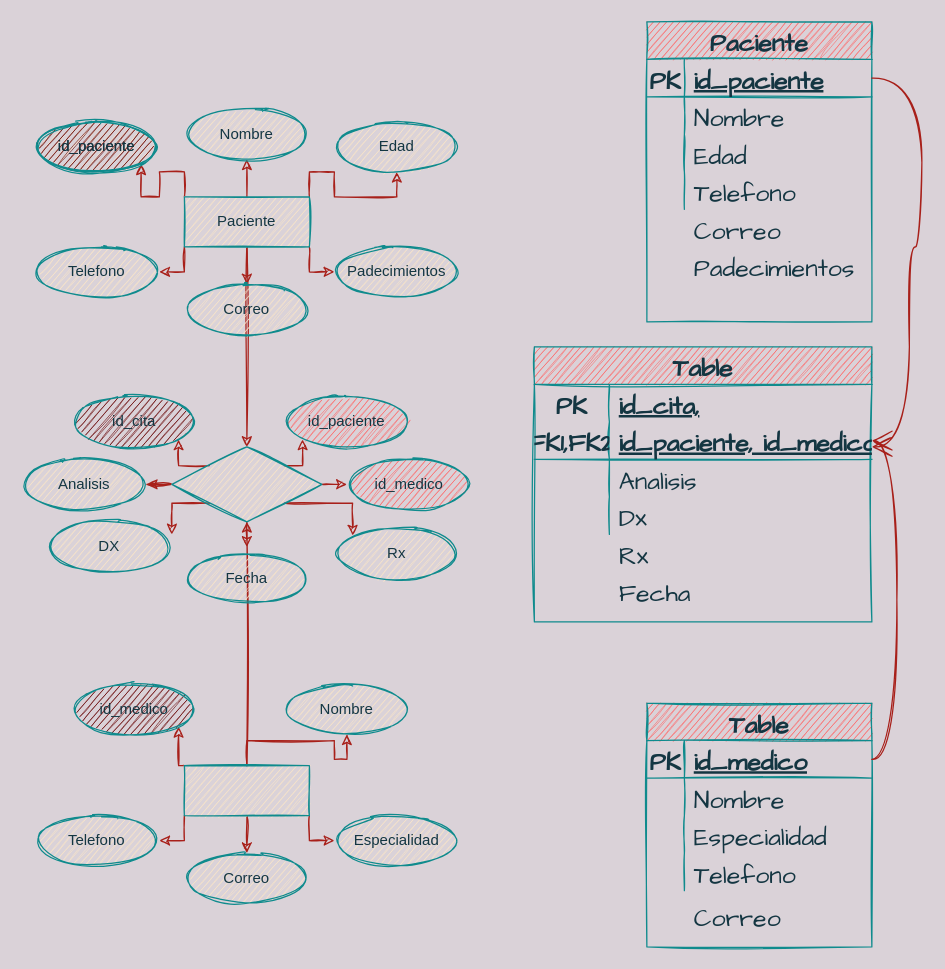
The diagram is 945 pixels wide and 969 high, and some of its shapes have lost their labels. Each missing label, with the centre of its shape:
"Cita" goes at pixel 246 484.
"Medico" goes at pixel 246 790.
